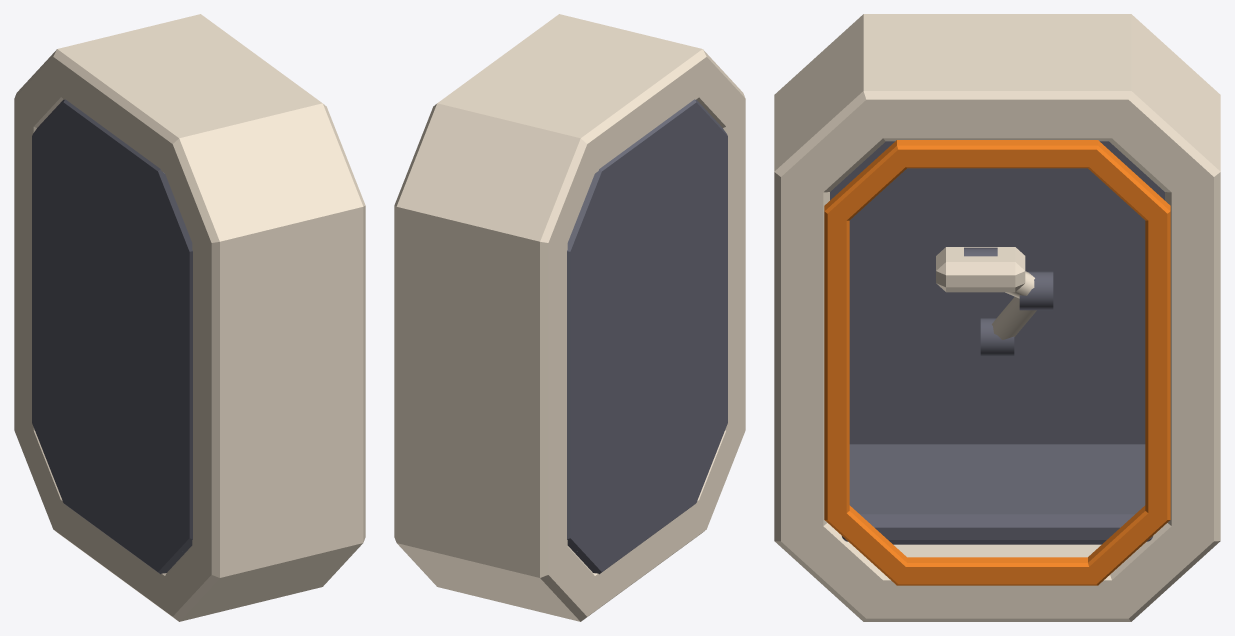
The model's file is asset.glb.
3 views of the same model, side by side, from view 1: azimuth 30°, elevation 25°; view 2: azimuth 150°, elevation 25°; view 3: azimuth 270°, elevation 25° (orthographic). The views are drawn at different scales.
Visible parts, largest first — view 1: Ivory octagonal niche, pebble-nook_smooth-structure_structure-gray; view 2: Ivory octagonal niche, pebble-nook_smooth-structure_structure-gray; view 3: Ivory octagonal niche, pebble-nook_smooth-structure_structure-gray, Orange inner niche trim, charging_arm_smooth-structure, charging_arm_smooth-structure_structure-gray.
Part boxes in pixels (x1,y1,x2,y2): Ivory octagonal niche: (14,14,365,621); pebble-nook_smooth-structure_structure-gray: (32,99,192,574); Ivory octagonal niche: (394,14,745,621); pebble-nook_smooth-structure_structure-gray: (567,99,727,574); Ivory octagonal niche: (774,14,1220,621); pebble-nook_smooth-structure_structure-gray: (830,141,1164,544); Orange inner niche trim: (824,140,1170,585); charging_arm_smooth-structure: (936,247,1036,339); charging_arm_smooth-structure_structure-gray: (964,247,1053,356).
Size of the model in its own units: 0.3875 by 1.05 by 0.8.
